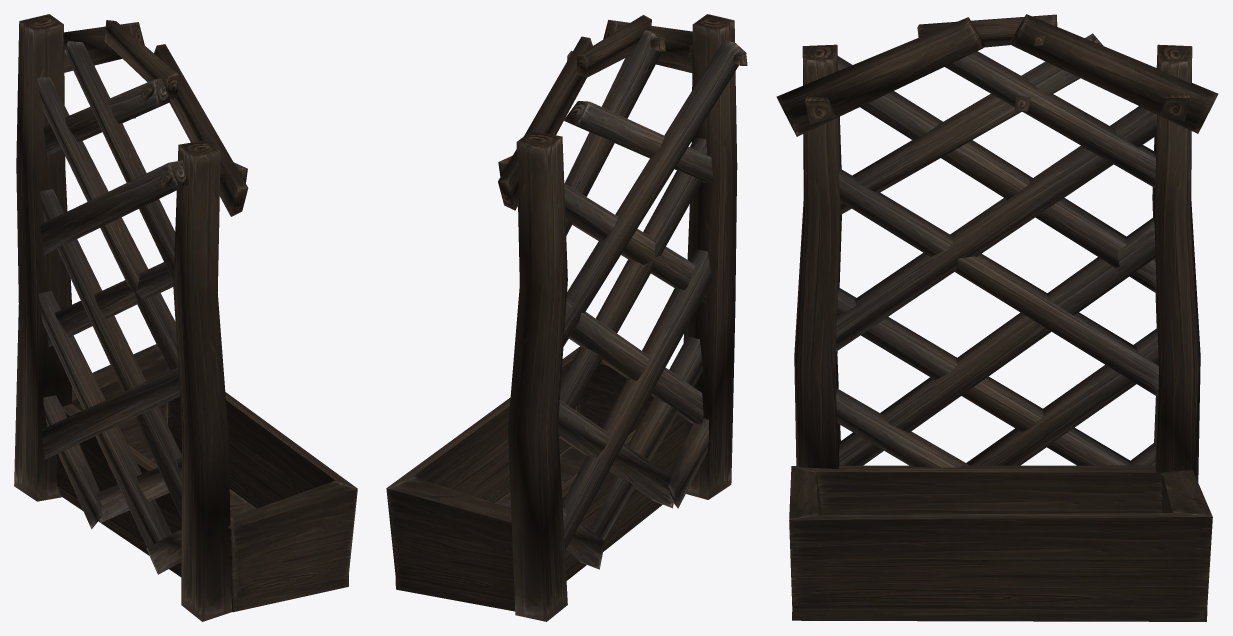
3 renders of one model, left to right at view 1: azimuth 30°, elevation 25°; view 2: azimuth 150°, elevation 25°; view 3: azimuth 270°, elevation 25°, orthographic. The views are drawn at different scales.
Bounding box in the file's own units: 1.73 × 4.75 × 3.43.
Materials: 2 (2 with a texture image).
